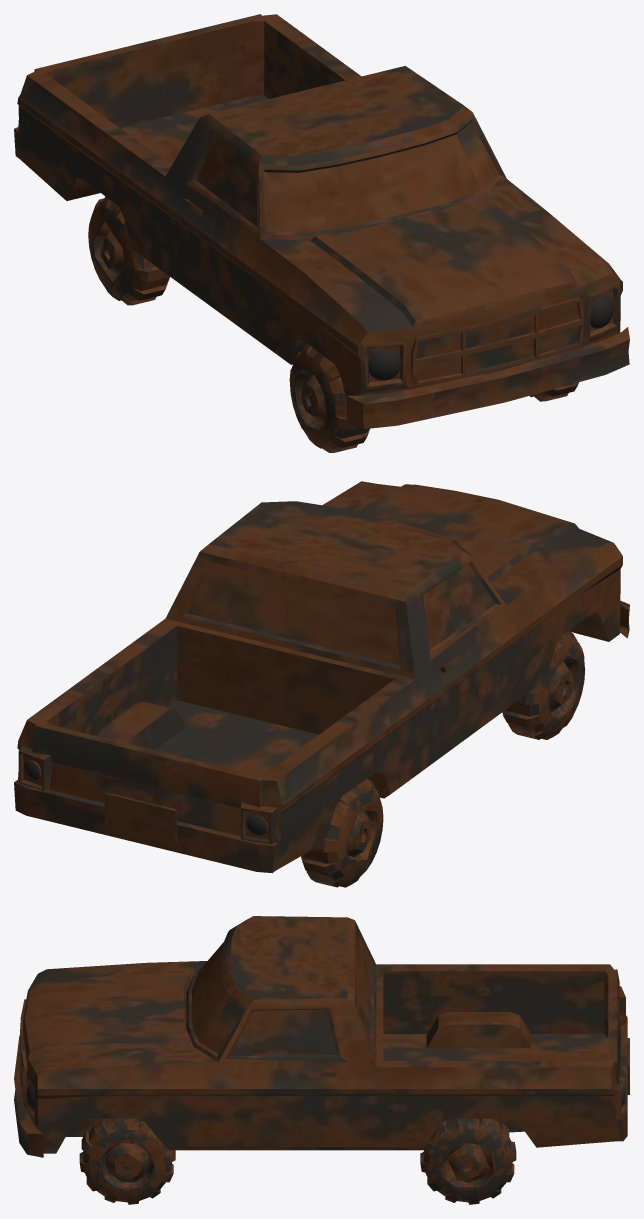
The model's file is wreck_pickup.glb.
The picture shows the model from 3 angles, top to bottom: view 1: azimuth 30°, elevation 25°; view 2: azimuth 150°, elevation 25°; view 3: azimuth 270°, elevation 25°; orthographic projection. The views are drawn at different scales.
Parts seen in each view (by area): view 1: BackWheels, Pickup; view 2: BackWheels; view 3: BackWheels.
Part boxes in pixels (x1,y1,x2,y2): BackWheels: (14, 14, 629, 452); Pickup: (369, 295, 613, 380); BackWheels: (14, 481, 629, 887); BackWheels: (14, 916, 629, 1204).
Bounding box in the file's own units: 2.31 × 1.85 × 5.18.
2 materials, 1 textured.
